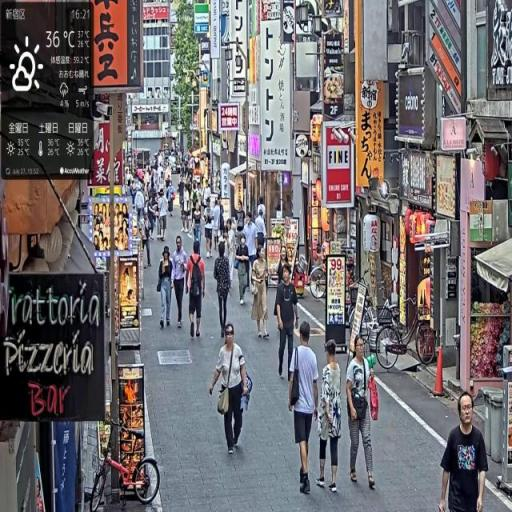person: (287, 315, 322, 503), (439, 391, 489, 512), (210, 322, 253, 457), (347, 336, 380, 495), (319, 341, 346, 493), (276, 265, 302, 383), (213, 240, 234, 340), (187, 241, 207, 339), (252, 249, 272, 339), (171, 238, 190, 331), (158, 246, 174, 331), (205, 207, 215, 257)
